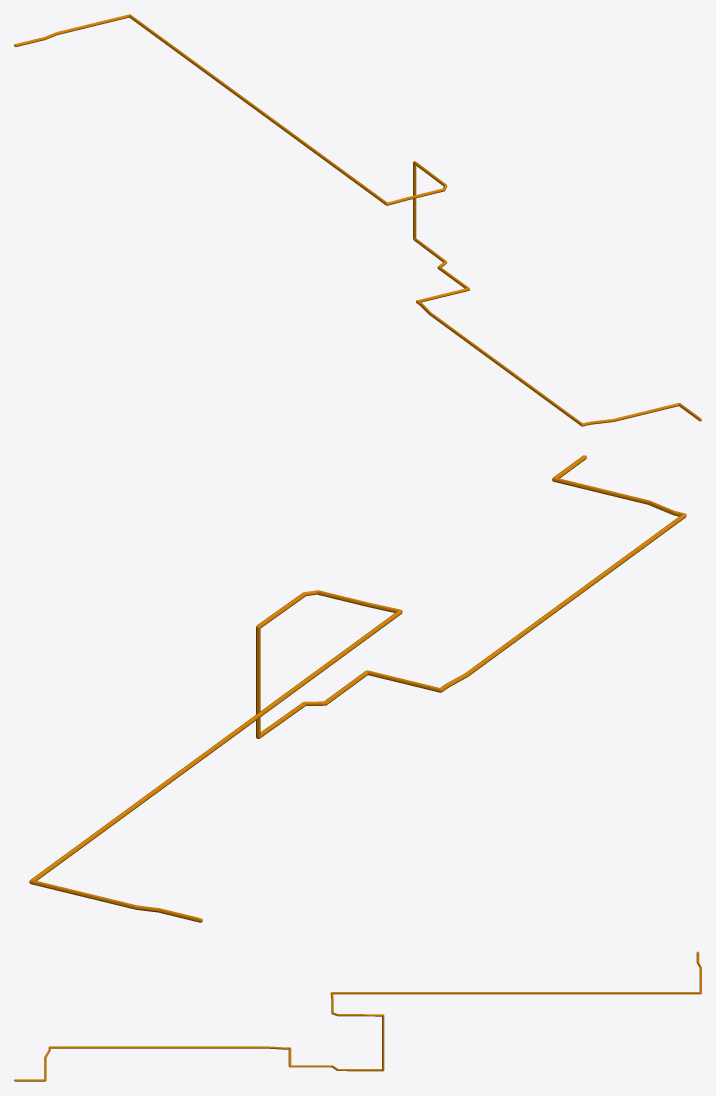
3 renders of one model, top to bottom at view 1: azimuth 30°, elevation 25°; view 2: azimuth 150°, elevation 25°; view 3: azimuth 270°, elevation 25°, orthographic. The views are drawn at different scales.
Size of the model in its own units: 1446 by 520 by 5687.
